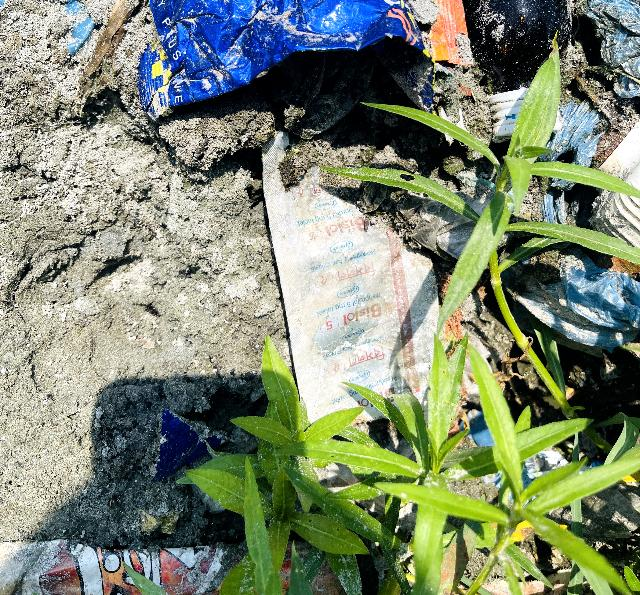medicine: (239, 113, 489, 511)
